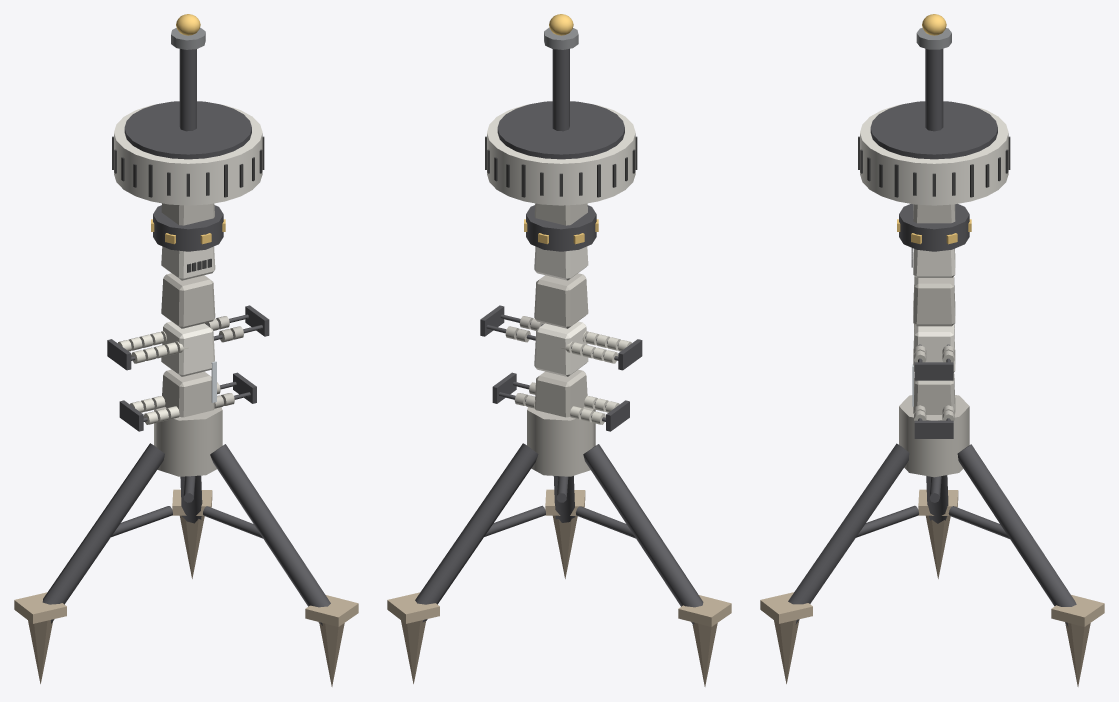
File: tally.glb
The picture shows the model from 3 angles, left to right: view 1: azimuth 30°, elevation 25°; view 2: azimuth 150°, elevation 25°; view 3: azimuth 270°, elevation 25°; orthographic projection.
Parts seen in each view (by area): view 1: ring_enamel.002, ring_graphite.015, ring_graphite.004, ring_graphite, ring_enamel_dk, ring_enamel_dk.002, ring_enamel, ring_graphite.014, ring_enamel_dk.001, ring_graphite.016, ring_enamel.001, ring_dust (+9 smaller); view 2: ring_enamel.002, ring_graphite.015, ring_graphite.004, ring_graphite.002, ring_enamel_dk, ring_enamel_dk.002, ring_enamel, ring_enamel_dk.001, ring_graphite.014, ring_graphite.016, ring_enamel.001, ring_dust.002 (+9 smaller); view 3: ring_enamel.002, ring_graphite.015, ring_graphite.002, ring_graphite, ring_enamel_dk, ring_graphite.014, ring_enamel_dk.002, ring_graphite.016, ring_enamel_dk.001, ring_enamel, ring_enamel.001, ring_dust.001 (+11 smaller).
Boxes of the visible parts, left/top/right/bottom form: ring_enamel.002: left=114, top=104, right=262, bottom=205; ring_graphite.015: left=124, top=101, right=251, bottom=159; ring_graphite.004: left=42, top=443, right=164, bottom=623; ring_graphite: left=210, top=444, right=330, bottom=625; ring_enamel_dk: left=154, top=407, right=222, bottom=476; ring_enamel_dk.002: left=161, top=273, right=215, bottom=328; ring_enamel: left=161, top=321, right=214, bottom=376; ring_graphite.014: left=153, top=205, right=223, bottom=251; ring_enamel_dk.001: left=162, top=369, right=214, bottom=417; ring_graphite.016: left=179, top=49, right=196, bottom=131; ring_enamel.001: left=161, top=246, right=215, bottom=280; ring_dust: left=305, top=595, right=358, bottom=626; ring_enamel.002: left=487, top=104, right=635, bottom=205; ring_graphite.015: left=497, top=101, right=624, bottom=159; ring_graphite.004: left=583, top=444, right=703, bottom=625; ring_graphite.002: left=415, top=443, right=538, bottom=622; ring_enamel_dk: left=527, top=407, right=595, bottom=476; ring_enamel_dk.002: left=534, top=273, right=588, bottom=328; ring_enamel: left=534, top=321, right=588, bottom=376; ring_enamel_dk.001: left=535, top=369, right=587, bottom=417; ring_graphite.014: left=526, top=205, right=596, bottom=251; ring_graphite.016: left=552, top=48, right=569, bottom=131; ring_enamel.001: left=534, top=246, right=588, bottom=280; ring_dust.002: left=678, top=595, right=731, bottom=626; ring_enamel.002: left=860, top=104, right=1008, bottom=205; ring_graphite.015: left=870, top=101, right=997, bottom=159; ring_graphite.002: left=957, top=444, right=1076, bottom=627; ring_graphite: left=788, top=443, right=909, bottom=624; ring_enamel_dk: left=899, top=395, right=969, bottom=477; ring_graphite.014: left=899, top=204, right=969, bottom=251; ring_enamel_dk.002: left=913, top=276, right=955, bottom=326; ring_graphite.016: left=925, top=48, right=943, bottom=131; ring_enamel_dk.001: left=913, top=373, right=955, bottom=414; ring_enamel: left=913, top=324, right=955, bottom=372; ring_enamel.001: left=913, top=248, right=955, bottom=277; ring_dust.001: left=1051, top=595, right=1104, bottom=626.
Bounding box in the file's own units: 1.71 × 3.96 × 1.95.
